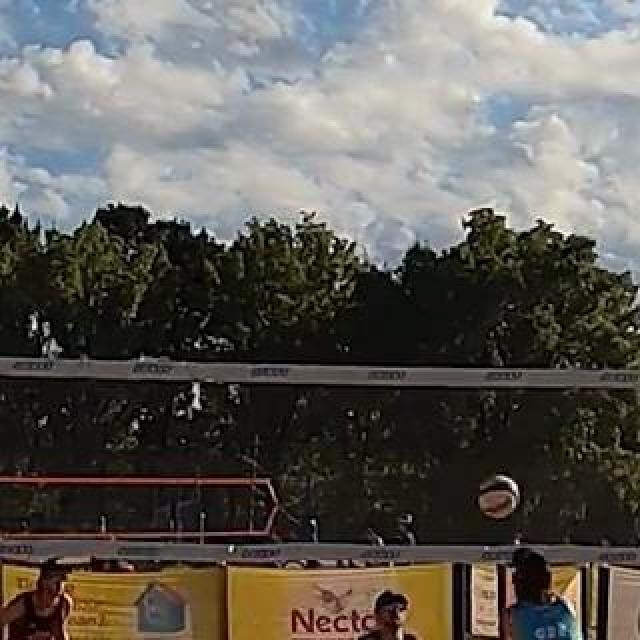volleyball: (480, 475, 518, 517)
